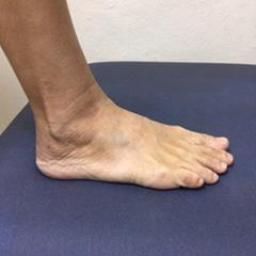Lateral View -Right Foot-: (21, 74, 237, 202)
